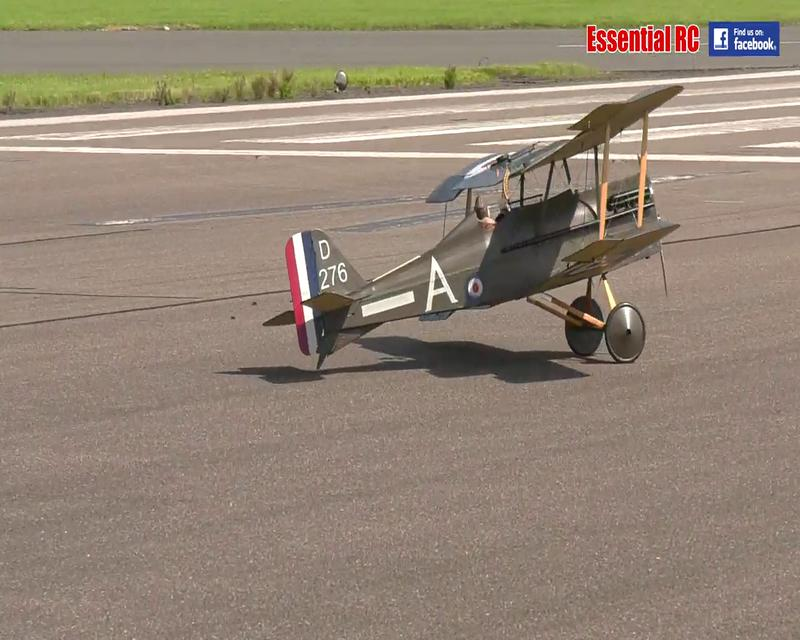UAV: (260, 89, 688, 388)
